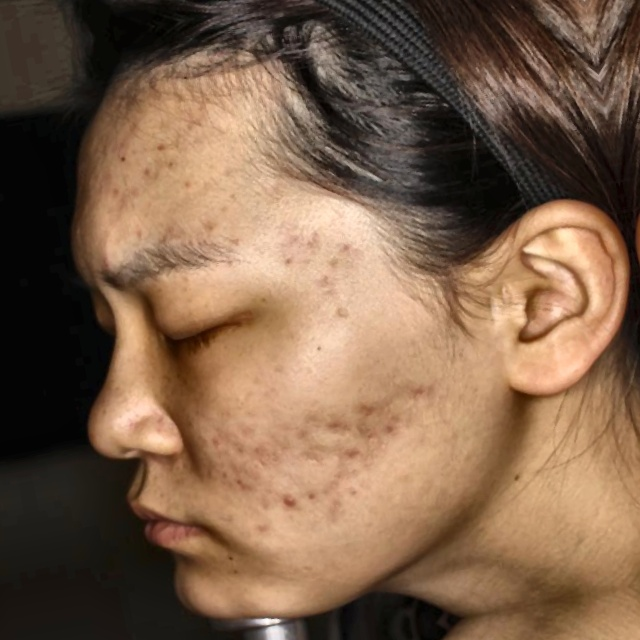comedone: (273, 484, 309, 523)
